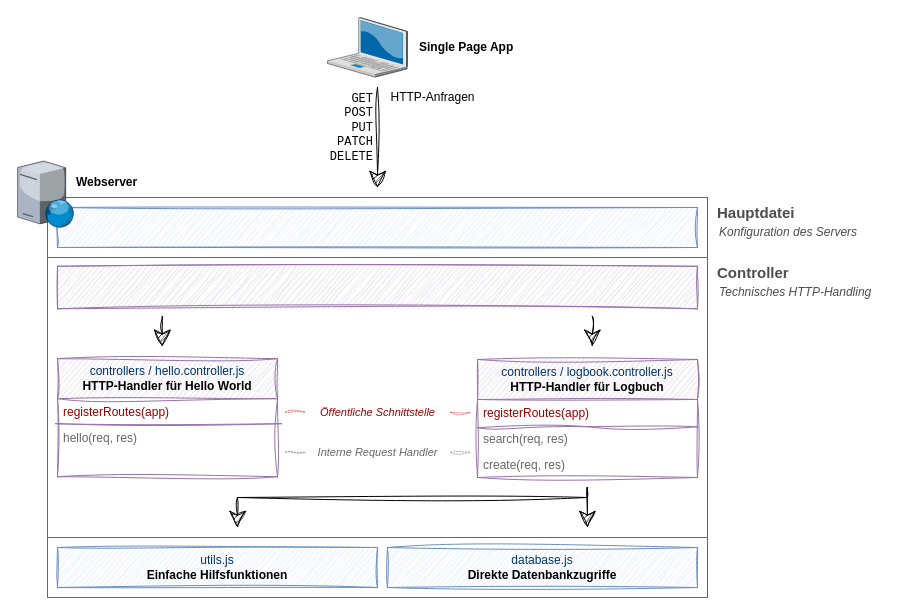
Image size: 904x615. Some labels were removed from this diagram. Each missing label, with the centre of its shape:
"controllers / index.js Zugriff auf die HTTP-Handler" goes at (377,287).
"main.js Express App" goes at (377,227).
